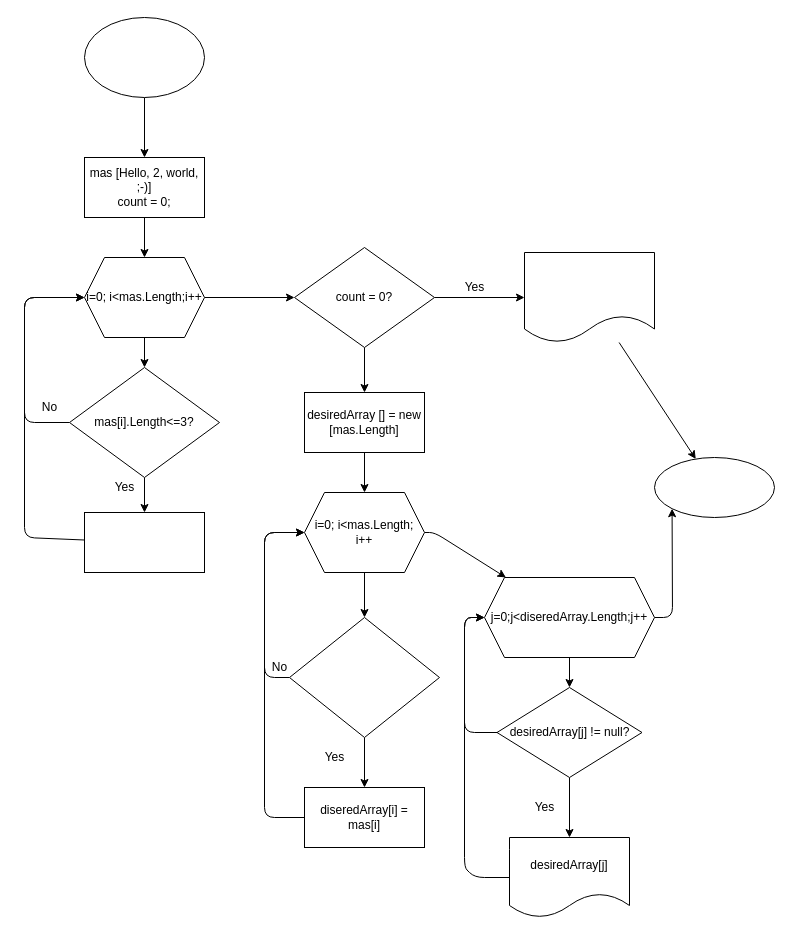
Image size: 792x935. Some labels were removed from this diagram. The box of each missing label's shape, as (x1, y1, x2, y2) in pixels:
count++: (84, 512, 204, 572)
End: (654, 456, 774, 518)
mas[i].Lenght <= 3?: (288, 616, 440, 738)
Start: (84, 16, 204, 98)
В массиве не содержится строк меньше, либо равным 3.: (524, 252, 654, 342)
